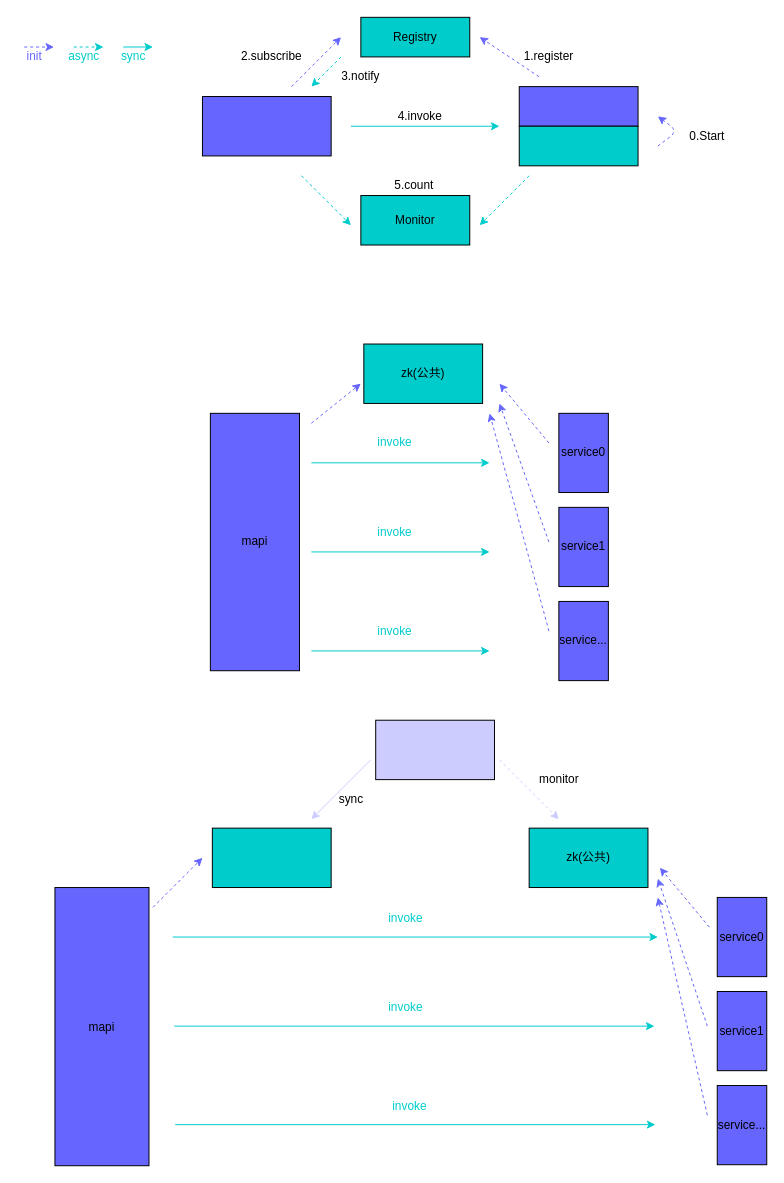
The diagram is 784 pixels wide and 1183 high, and some of its shapes have lost their labels. The box of each missing label's shape, as (x1, y1, x2, y2) in pixels:
Consumer: (201, 96, 331, 156)
Container: (518, 125, 638, 166)
Provider: (518, 86, 638, 126)
zk(mapi): (211, 827, 331, 888)
zk同步工具: (375, 719, 495, 780)
